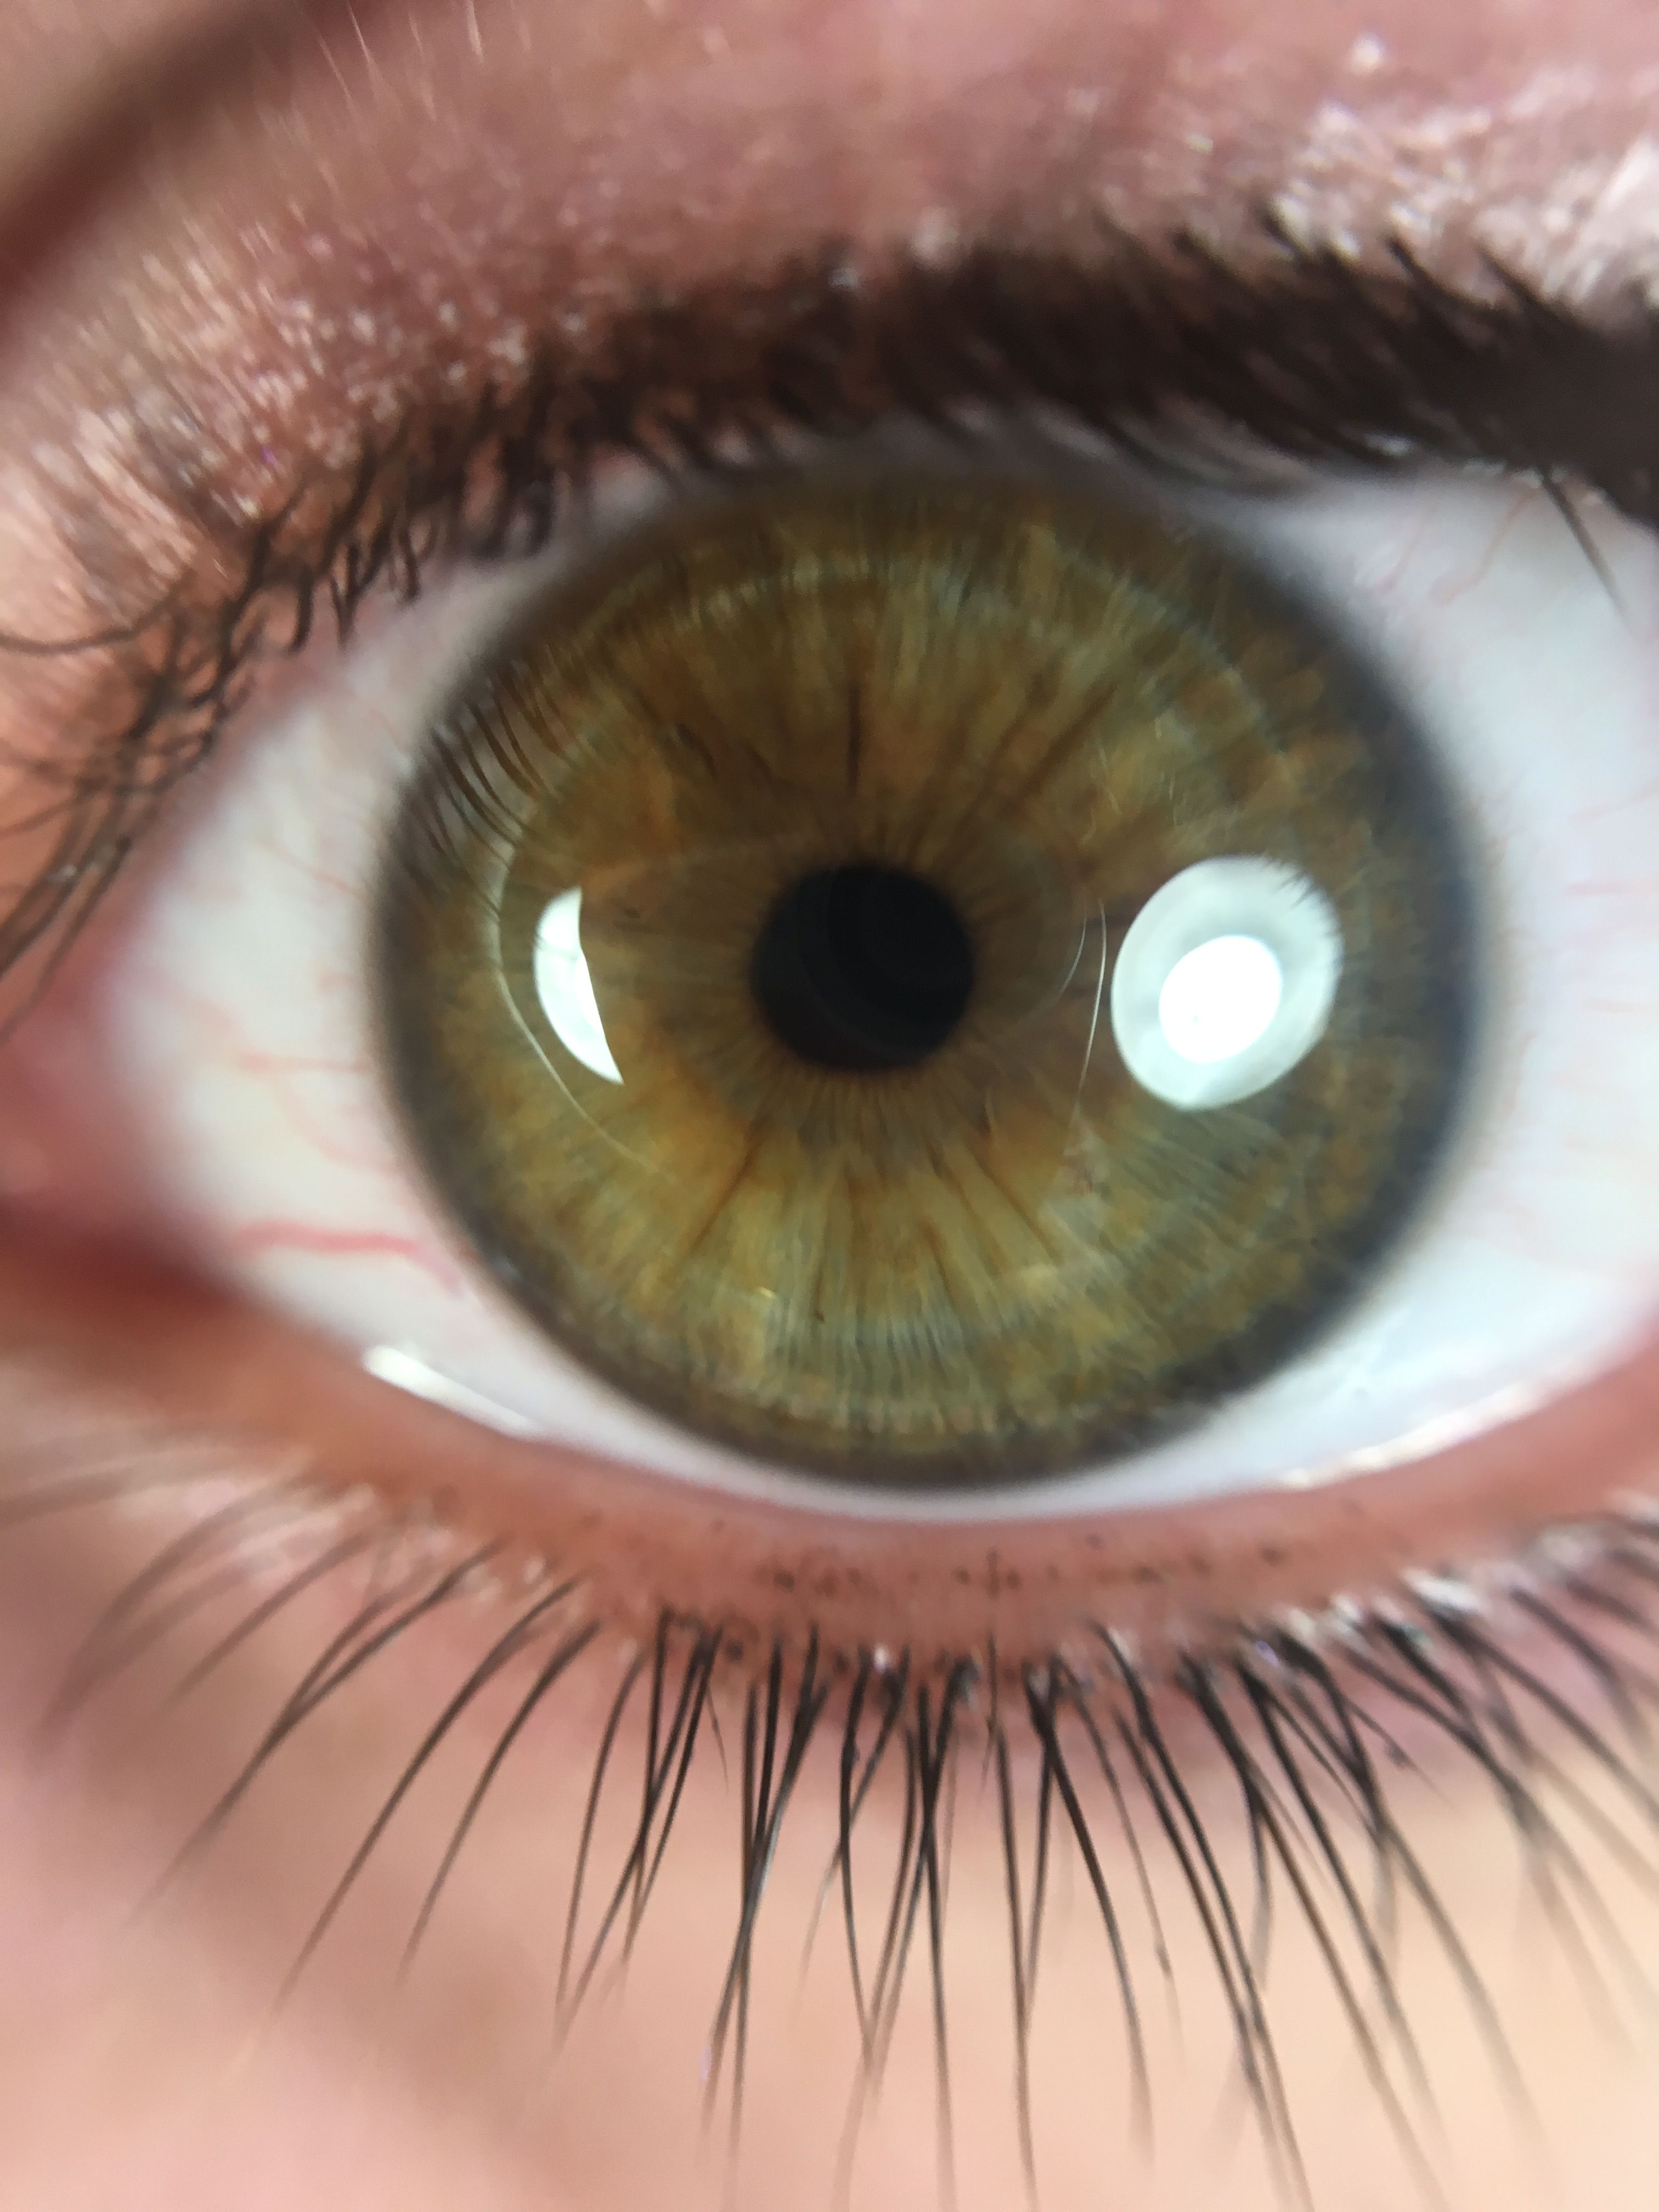iris: (376, 434, 1473, 1488)
pupil: (749, 856, 970, 1077)
